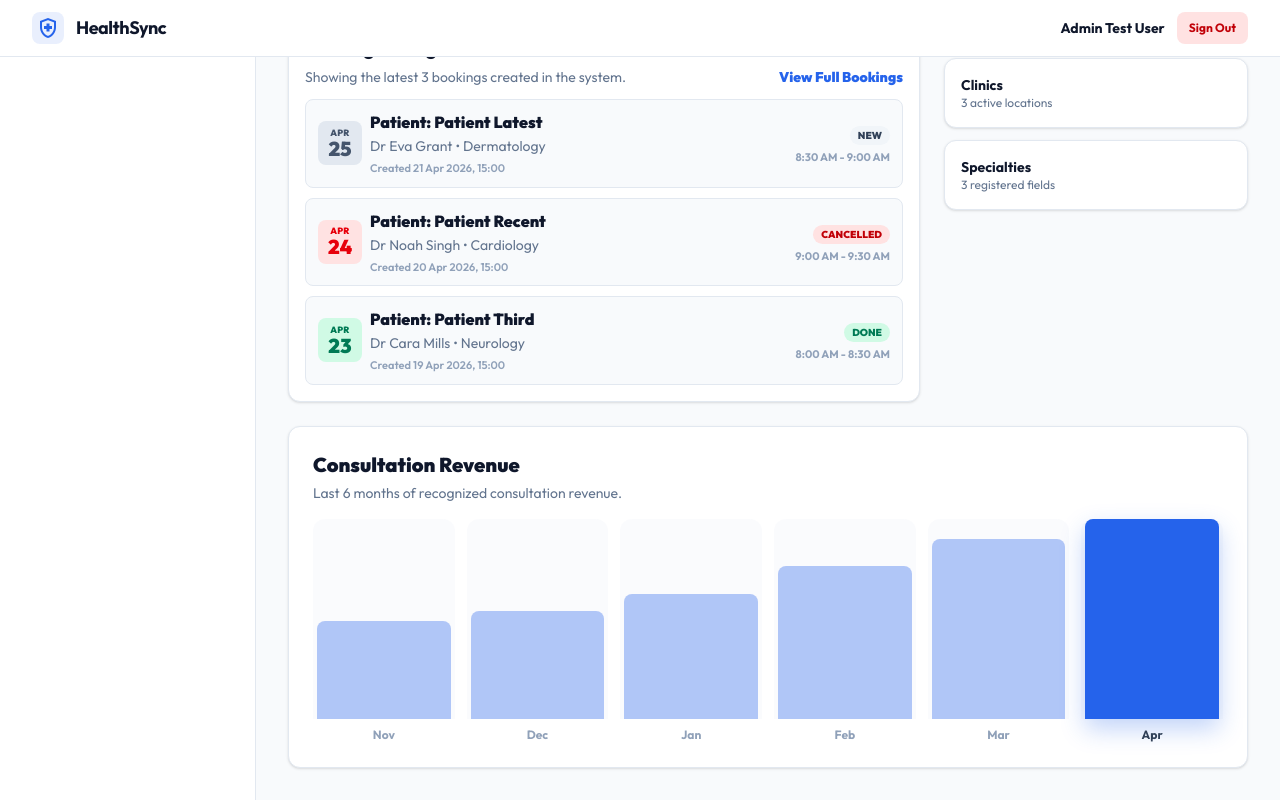
AdminDashboard Component › shows the month and amount when hovering a revenue bar
(page scrolled)
Hover over the picture with test id "revenue-bar-2026-04" at (1152, 630), box [1081,518,1223,742]
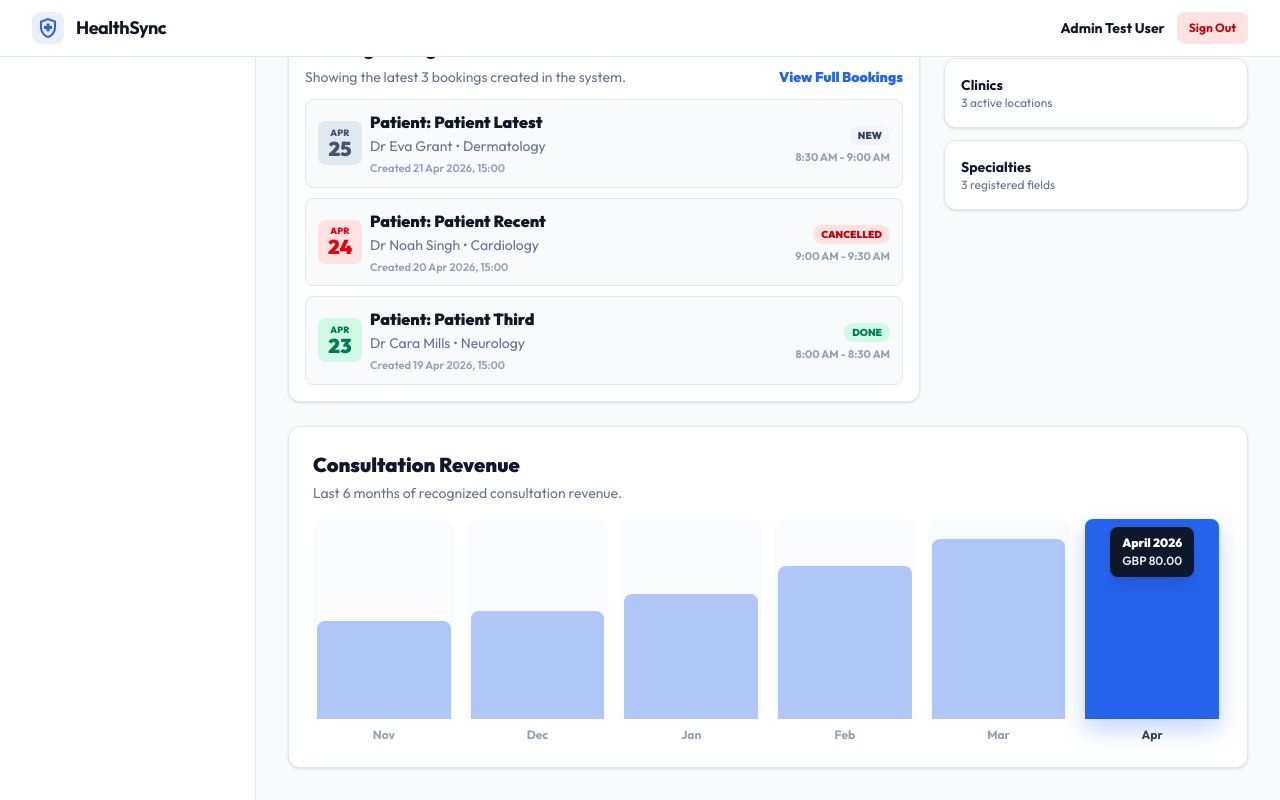
Result: the element with test id "revenue-tooltip-2026-04" shows "April 2026" at [1122,534,1182,550]
Result: the element with test id "revenue-tooltip-2026-04" shows "GBP 80.00" at [1122,552,1182,568]
Move the pointer off the picture with test id "revenue-bar-2026-04", box [1081,518,1223,742]
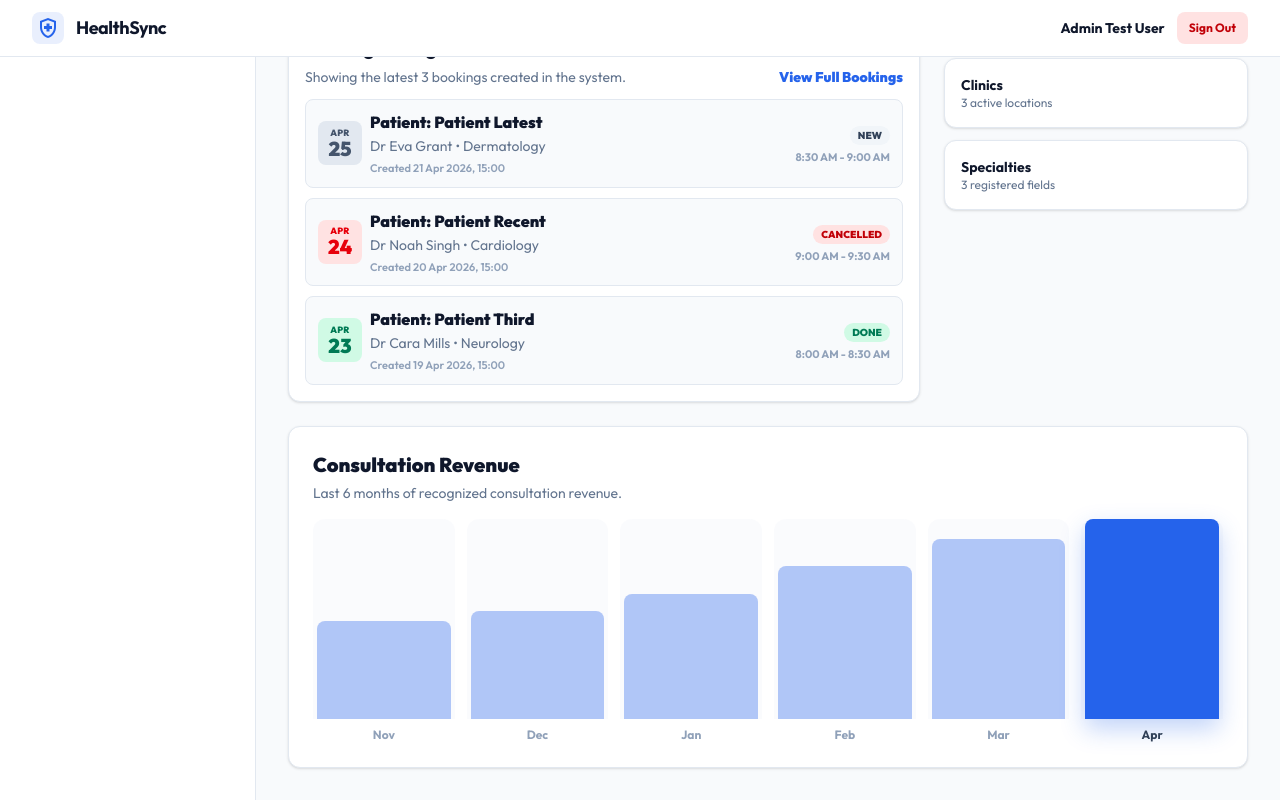
Result: the element with test id "revenue-tooltip-2026-04" is gone
